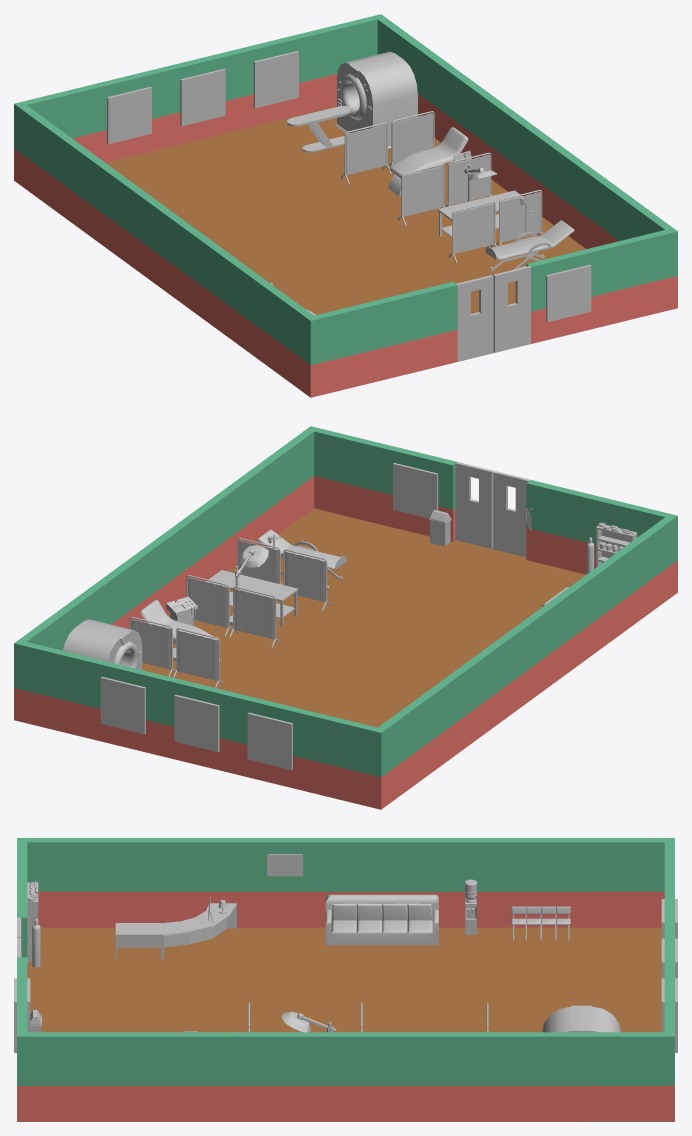
Rendered from hospital.fbx.
3 views of the same model, one above another, from view 1: azimuth 30°, elevation 25°; view 2: azimuth 150°, elevation 25°; view 3: azimuth 270°, elevation 25° (orthographic). The views are drawn at different scales.
Parts seen in each view (by area): view 1: floor, wall.001, window.001, wall_corner, wall_corner.001, mrt, window, wall, wall_corner.002, wall_corner.003, door.001, door (+9 smaller); view 2: floor, wall.001, window.001, wall_corner.002, wall_corner.001, wall_corner.003, window, wall, wall_corner, door.001, mrt, door (+12 smaller); view 3: wall.001, floor, wall_corner.001, wall_corner.003, wall_corner.002, wall_corner, sofa, window.001, desk_quarter, mrt, desk, chairs (+6 smaller).
Part boxes in pixels (x1,y1,x2,y2): floor: (105, 106, 586, 352); wall.001: (56, 45, 634, 366); window.001: (87, 32, 312, 162); wall_corner: (268, 288, 384, 397); wall_corner.001: (600, 200, 677, 325); mrt: (287, 51, 417, 152); window: (526, 246, 604, 343); wall: (380, 282, 457, 379); wall_corner.002: (14, 86, 91, 210); wall_corner.003: (308, 14, 423, 112); door.001: (493, 266, 530, 352); door: (456, 275, 493, 361); floor: (142, 508, 586, 727); wall.001: (57, 457, 635, 778); window.001: (87, 658, 311, 791); wall_corner.002: (307, 700, 423, 809); wall_corner.001: (268, 426, 383, 534); wall_corner.003: (14, 612, 91, 737); window: (379, 444, 456, 541); wall: (526, 480, 604, 574); wall_corner: (600, 498, 677, 622); door.001: (455, 462, 493, 548); mrt: (63, 619, 142, 669); door: (493, 471, 530, 557); wall.001: (111, 838, 580, 1121); floor: (27, 927, 661, 1032); wall_corner.001: (17, 997, 110, 1121); wall_corner.003: (581, 997, 674, 1121); wall_corner.002: (581, 838, 674, 927); wall_corner: (17, 838, 110, 927); sofa: (325, 894, 438, 945); window.001: (661, 878, 677, 1052); desk_quarter: (162, 903, 236, 959); mrt: (542, 1005, 620, 1032); desk: (115, 923, 162, 959); chairs: (511, 906, 570, 940).
Size of the model in its own units: 1000 by 200 by 1413.
